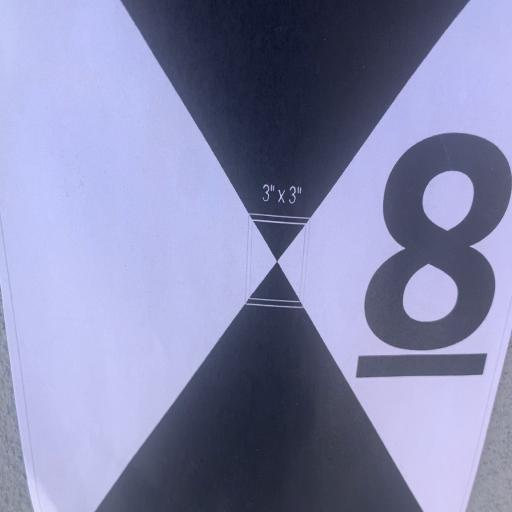target8: (1, 1, 512, 512)
